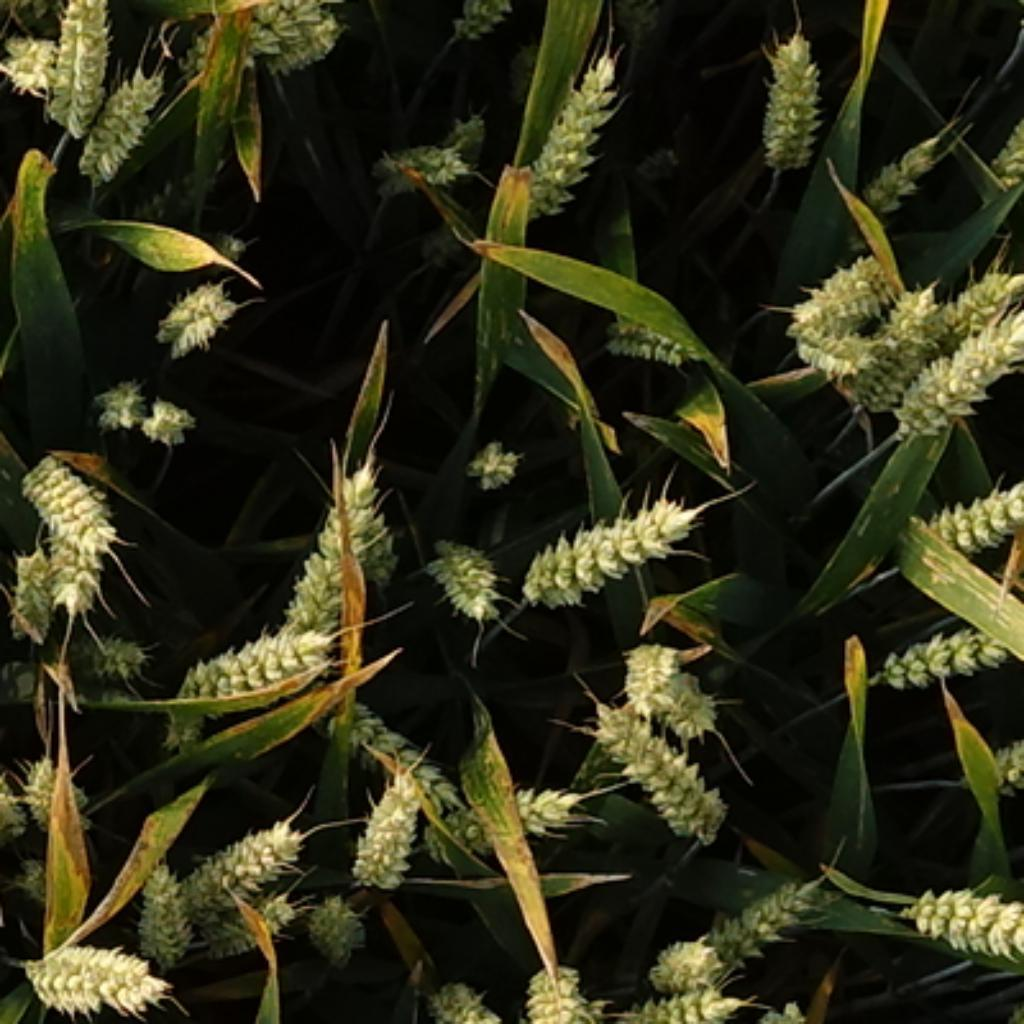0-0: (509, 481, 701, 604), (268, 458, 394, 634), (168, 611, 348, 729), (588, 693, 732, 839), (509, 46, 627, 222), (890, 299, 1024, 445), (335, 698, 471, 824), (156, 803, 307, 911), (430, 780, 586, 875), (837, 276, 934, 424), (701, 860, 837, 965), (10, 440, 122, 565), (107, 161, 225, 273), (15, 924, 161, 1013), (752, 20, 834, 171), (865, 614, 1008, 698), (783, 240, 896, 340), (896, 870, 1024, 957), (76, 56, 168, 174), (179, 0, 335, 69), (345, 757, 430, 883), (906, 468, 1021, 555), (855, 117, 957, 215), (40, 2, 117, 130), (181, 885, 294, 970), (921, 263, 1018, 360), (33, 529, 115, 629), (157, 276, 249, 361), (419, 527, 501, 616), (783, 302, 880, 376), (591, 302, 704, 363), (0, 535, 69, 634), (616, 634, 691, 724), (368, 125, 473, 189), (53, 614, 148, 683), (266, 0, 361, 69), (133, 855, 194, 957), (655, 678, 739, 752), (611, 977, 737, 1024), (20, 744, 89, 829), (975, 117, 1024, 227), (417, 962, 501, 1024), (949, 732, 1024, 801), (642, 926, 721, 988), (517, 964, 598, 1024), (299, 885, 366, 957), (412, 212, 486, 276), (627, 135, 696, 202), (84, 366, 151, 427), (141, 391, 208, 450), (0, 25, 58, 92), (460, 438, 524, 497), (445, 2, 527, 40), (15, 847, 56, 919), (440, 104, 488, 151), (212, 227, 258, 271)
